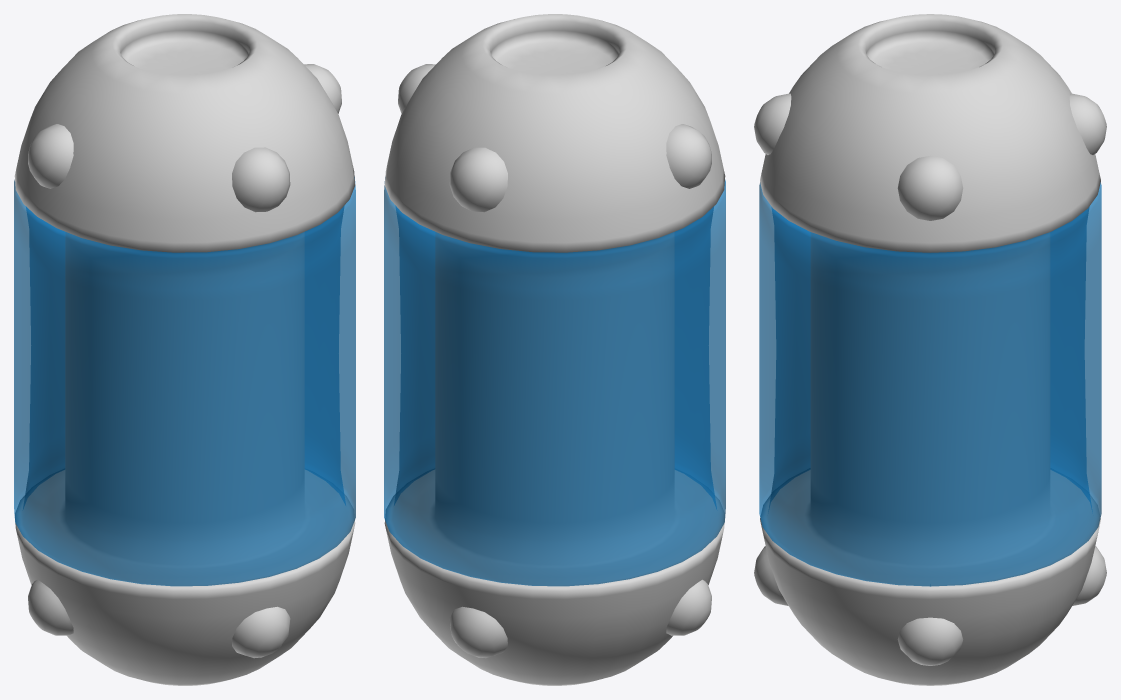
Rendered from capsule_item.glb.
The picture shows the model from 3 angles, left to right: view 1: azimuth 30°, elevation 25°; view 2: azimuth 150°, elevation 25°; view 3: azimuth 270°, elevation 25°; orthographic projection.
Visible parts, largest first — view 1: Capsule_Body, Capsule_Glass; view 2: Capsule_Body, Capsule_Glass; view 3: Capsule_Body, Capsule_Glass.
Boxes of the visible parts, x1,y1,x2,y2 form: Capsule_Body: [14, 14, 355, 685]; Capsule_Glass: [14, 177, 355, 586]; Capsule_Body: [384, 14, 725, 685]; Capsule_Glass: [384, 177, 725, 586]; Capsule_Body: [754, 14, 1106, 685]; Capsule_Glass: [759, 182, 1101, 586].
Size of the model in its own units: 2.02 by 3.86 by 2.02.
